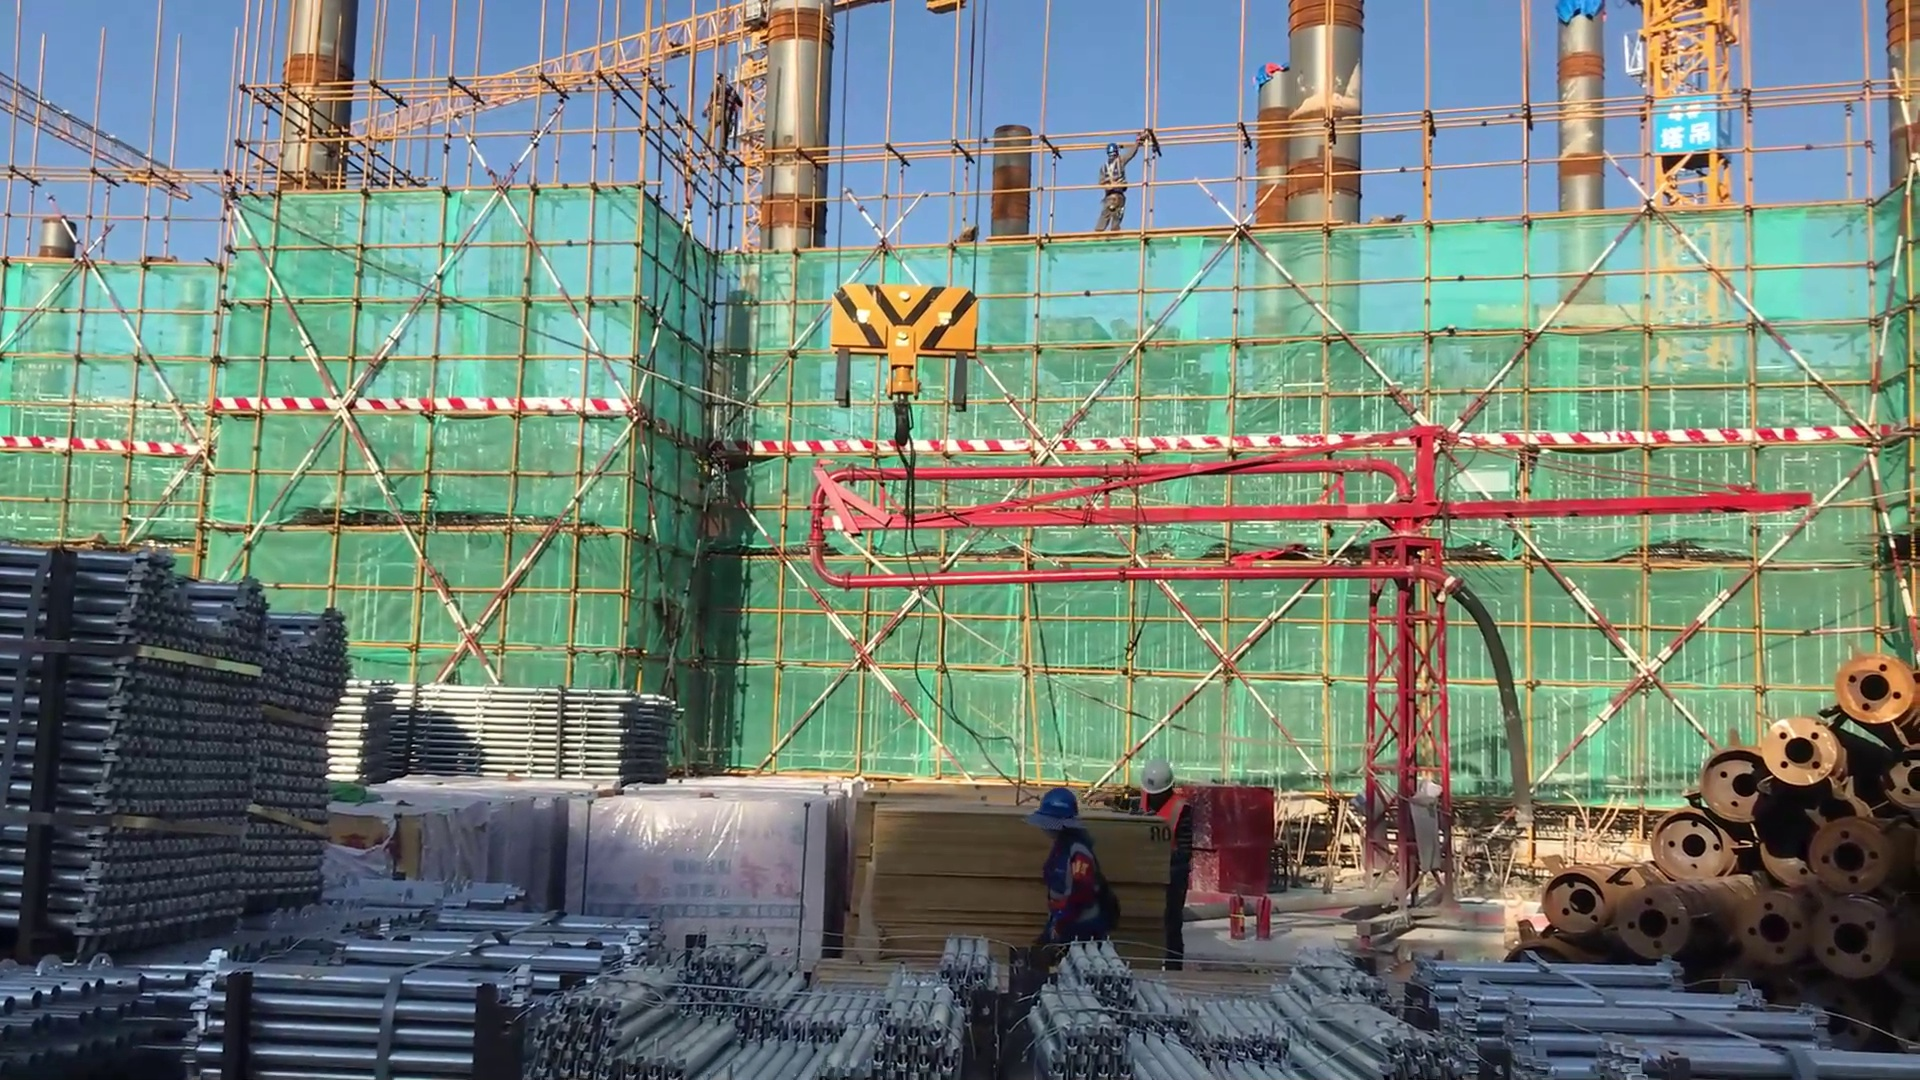board: (855, 791, 1169, 940)
helmet: (1038, 783, 1088, 838), (1132, 759, 1181, 796), (1102, 139, 1127, 163)
hook: (801, 273, 993, 466)
person: (1103, 750, 1197, 983), (1036, 779, 1115, 980), (1086, 123, 1166, 250)
scaffold: (1, 531, 336, 951), (206, 874, 628, 1080), (1402, 951, 1920, 1078), (511, 941, 939, 1080), (1040, 938, 1441, 1080), (305, 671, 691, 788), (861, 935, 1160, 1080), (1, 945, 204, 1074)
slogan: (1658, 101, 1722, 162)
vest: (1042, 836, 1105, 948), (1130, 791, 1196, 864), (1094, 159, 1130, 196)
